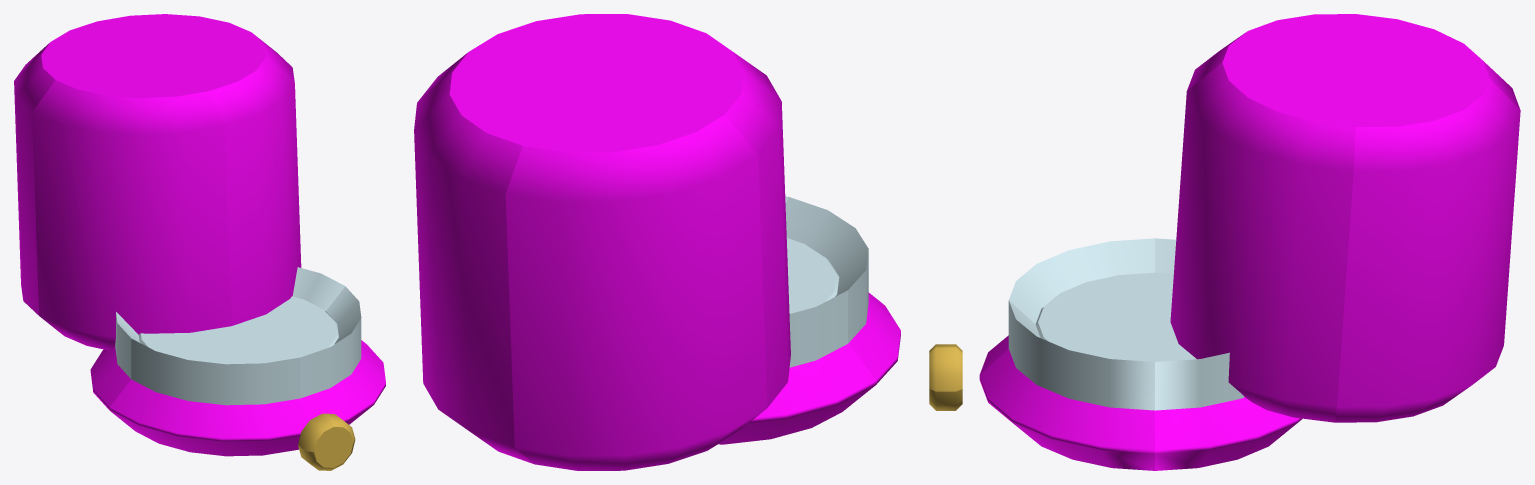
The model's file is objet_boussole.glb.
3 views of the same model, side by side, from view 1: azimuth 30°, elevation 25°; view 2: azimuth 150°, elevation 25°; view 3: azimuth 270°, elevation 25° (orthographic). The views are drawn at different scales.
Visible parts, largest first — view 1: couvercle_teinte.002, boussole_verre_clair.002, boussole_teinte.002, boussole_laiton.002; view 2: couvercle_teinte.002, boussole_verre_clair.002, boussole_teinte.002; view 3: couvercle_teinte.002, boussole_verre_clair.002, boussole_teinte.002, boussole_laiton.002.
Boxes of the visible parts, x1,y1,x2,y2 form: couvercle_teinte.002: [14, 14, 301, 350]; boussole_verre_clair.002: [115, 267, 361, 405]; boussole_teinte.002: [90, 340, 385, 456]; boussole_laiton.002: [298, 413, 355, 470]; couvercle_teinte.002: [414, 14, 790, 470]; boussole_verre_clair.002: [785, 196, 868, 367]; boussole_teinte.002: [718, 292, 900, 444]; couvercle_teinte.002: [1170, 14, 1520, 422]; boussole_verre_clair.002: [1008, 238, 1244, 410]; boussole_teinte.002: [979, 335, 1302, 470]; boussole_laiton.002: [929, 344, 962, 410].
Size of the model in its own units: 0.21 by 0.2301 by 0.3535.
